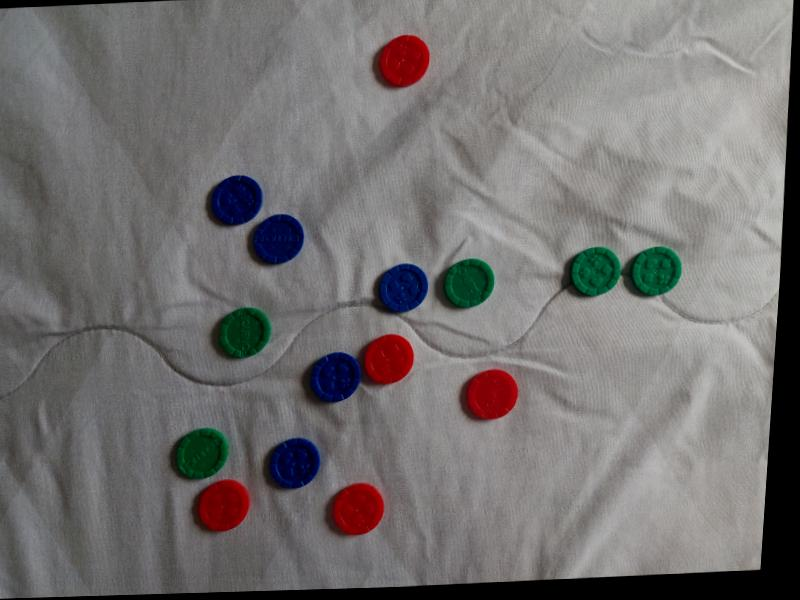Blue_Token: (251, 426, 334, 496), (294, 342, 367, 415), (361, 256, 434, 321), (197, 169, 270, 232), (234, 209, 308, 262)
Green_Token: (615, 232, 696, 302), (203, 304, 276, 367), (160, 419, 233, 482), (438, 251, 499, 316), (560, 239, 624, 299)
Red_Token: (353, 21, 444, 103), (176, 471, 266, 539), (347, 317, 426, 390), (448, 362, 531, 427), (323, 471, 393, 540)
